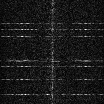wifi: (1, 21, 104, 24), (1, 27, 104, 30), (1, 34, 104, 37), (1, 64, 104, 67), (1, 77, 104, 80), (1, 92, 104, 95)
